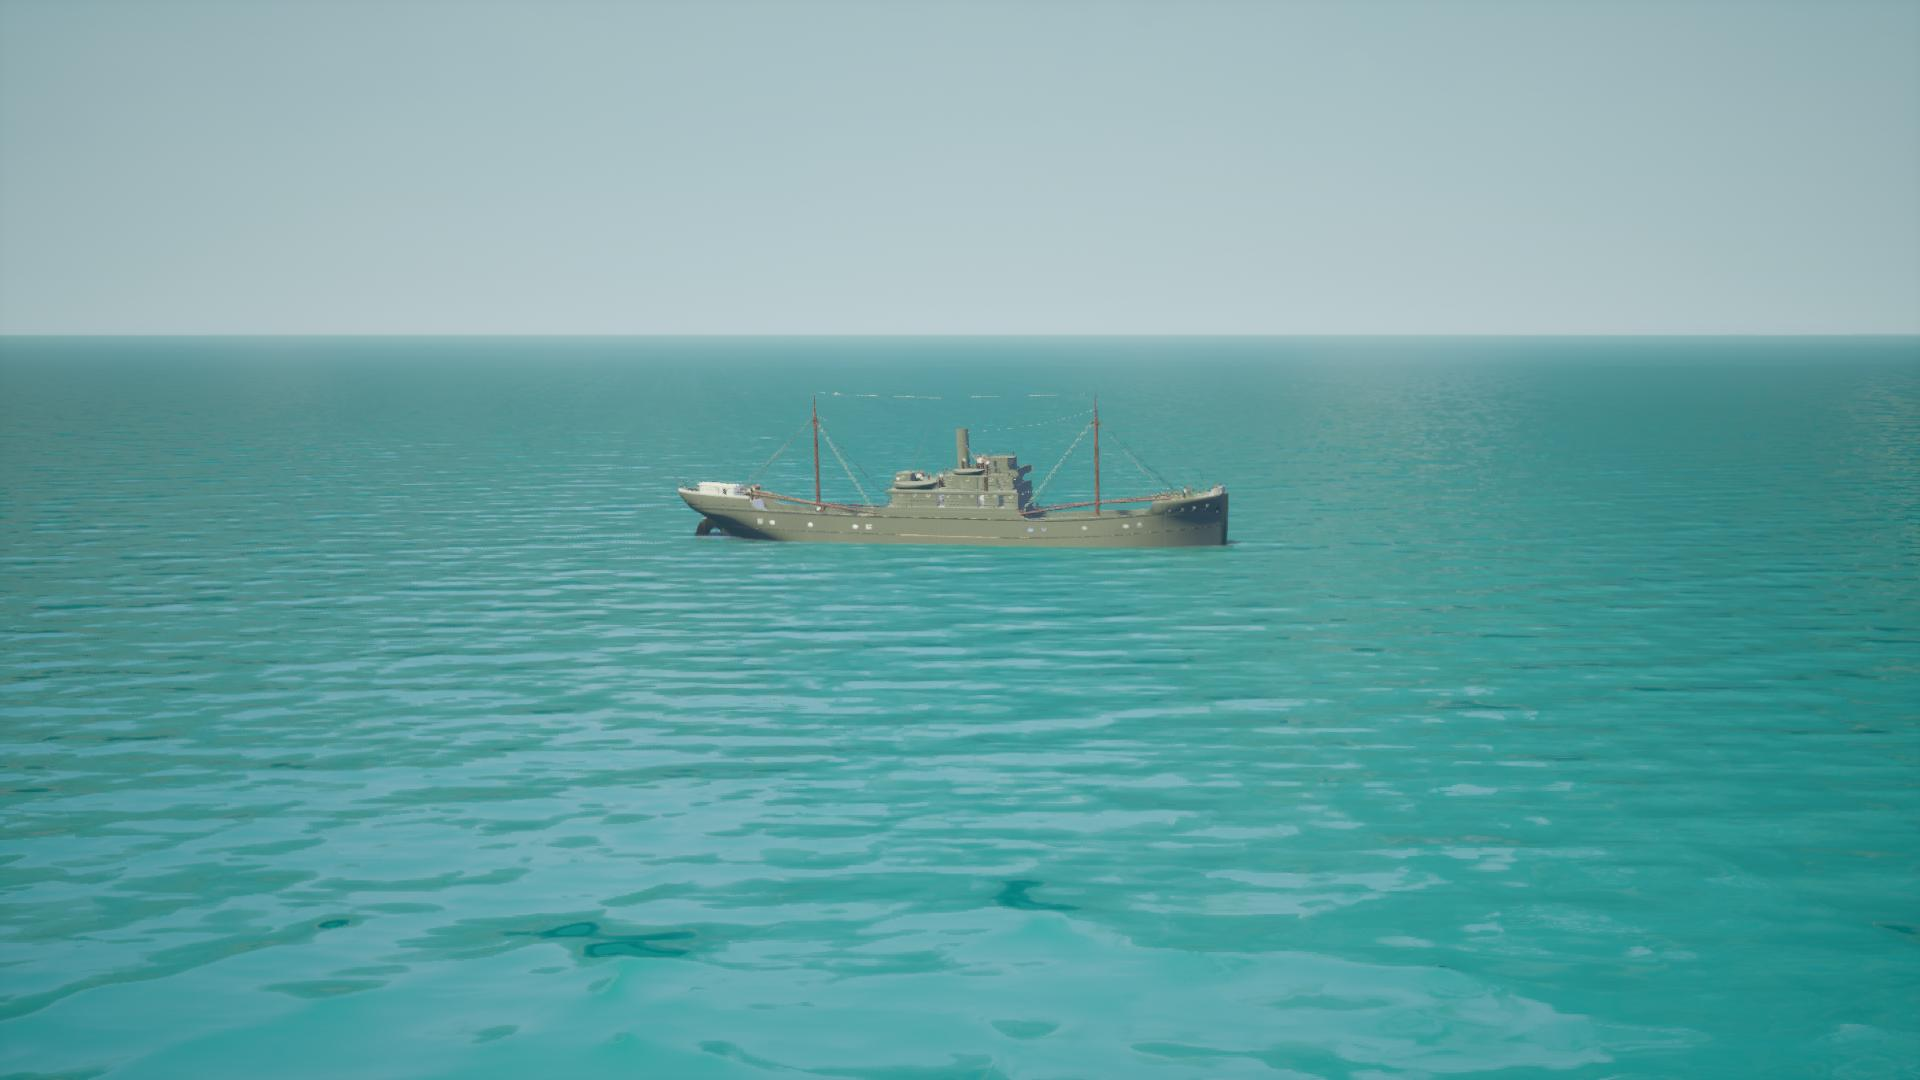Fishing Boat: (675, 393, 1233, 549)
